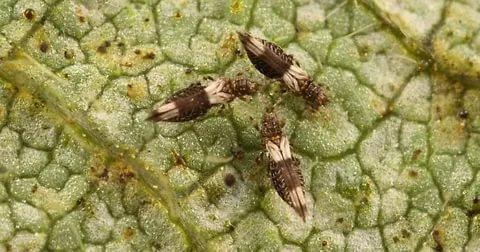tiny_pests: (223, 105, 349, 227), (234, 13, 346, 116), (129, 62, 262, 132)
